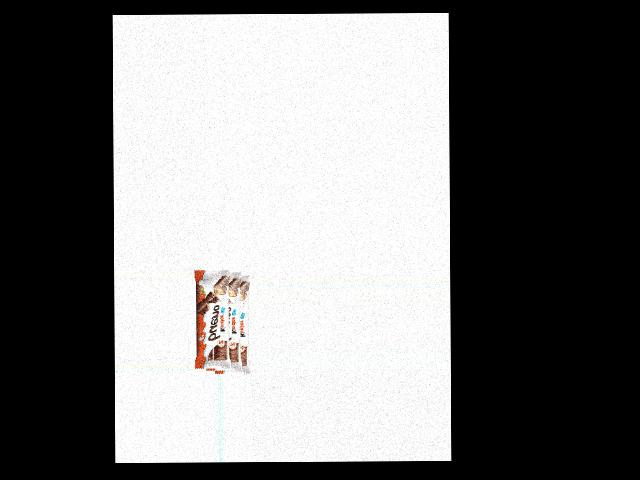chocolate: (193, 272, 250, 373)
